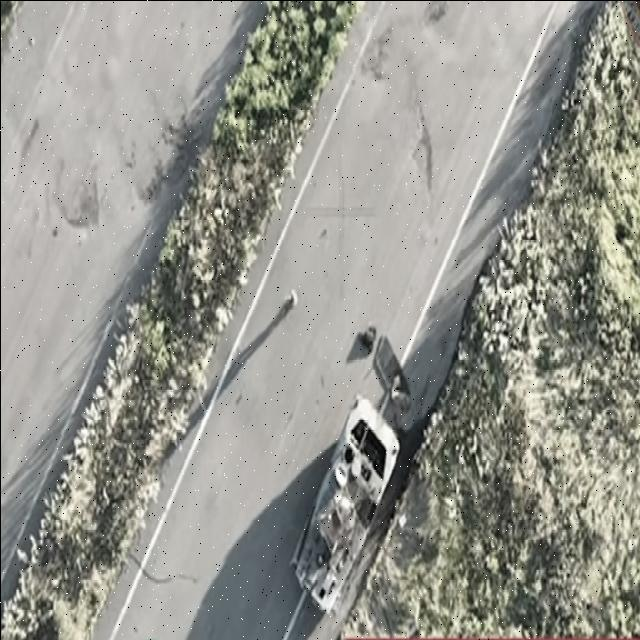APC-IFV: (286, 393, 402, 618)
